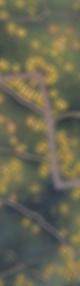Tomato leaf bacterial spot: (0, 3, 80, 283)
